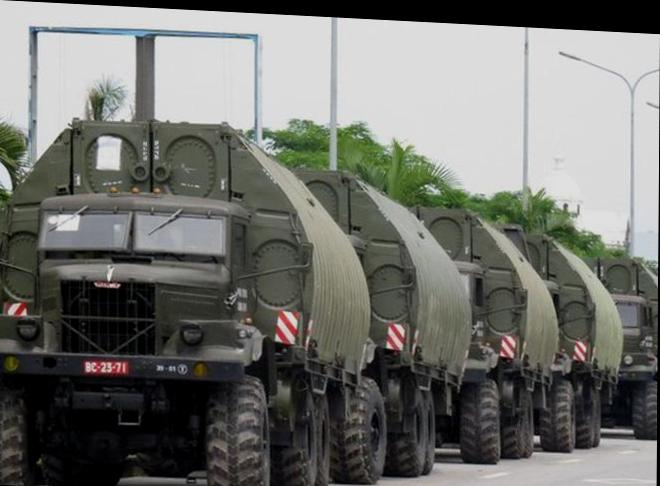License_Plate: (81, 357, 130, 376)
